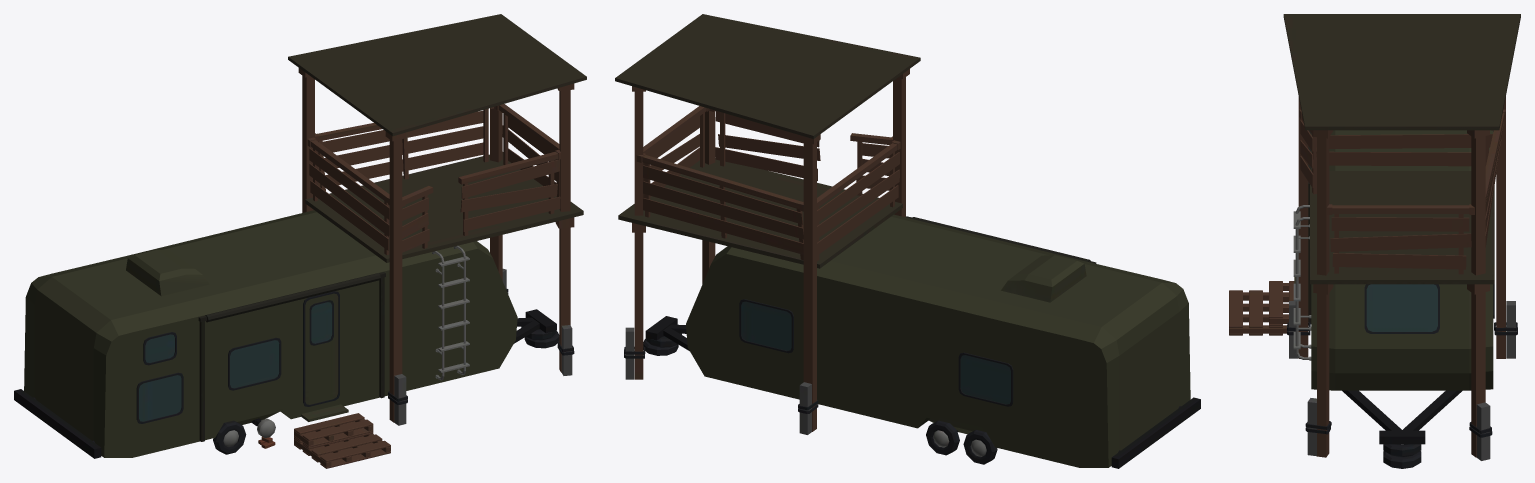
The model's file is old_trailer.gltf.
The picture shows the model from 3 angles, left to right: view 1: azimuth 30°, elevation 25°; view 2: azimuth 150°, elevation 25°; view 3: azimuth 270°, elevation 25°; orthographic projection. The views are drawn at different scales.
Parts seen in each view (by area): view 1: object 144, object 1, object 87, object 47, Door, object 59, object 112, Window3_3, object 15, Window1, object 9, object 16 (+18 smaller); view 2: object 144, object 1, object 87, object 43, object 53, object 112, object 16, object 15, object 9, Window3_4, Window3_5, object 116 (+13 smaller); view 3: object 1, object 144, object 87, object 53, object 59, Window2, object 43, object 32, object 19, object 20, object 33, object 18 (+18 smaller).
Part boxes in pixels (x1,y1,x2,y2): object 144: (24, 210, 517, 457); object 1: (288, 14, 586, 136); object 87: (305, 152, 583, 262); object 47: (389, 139, 402, 422); Door: (303, 291, 339, 406); object 59: (559, 90, 570, 372); object 112: (126, 250, 209, 296); Window3_3: (230, 340, 279, 388); object 15: (318, 126, 483, 169); Window1: (139, 375, 181, 421); object 9: (318, 110, 483, 153); object 16: (318, 142, 483, 186); object 144: (686, 214, 1190, 467); object 1: (615, 14, 920, 138); object 87: (618, 158, 902, 268); object 43: (803, 142, 816, 431); object 53: (634, 91, 643, 379); object 112: (1001, 255, 1086, 302); object 16: (643, 198, 803, 254); object 15: (643, 181, 803, 239); object 9: (643, 165, 802, 224); Window3_4: (741, 301, 791, 350); Window3_5: (960, 355, 1010, 404); object 116: (1111, 397, 1200, 468); object 1: (1283, 14, 1520, 130); object 144: (1311, 130, 1493, 390); object 87: (1310, 171, 1494, 284); object 53: (1471, 136, 1485, 457); object 59: (1317, 137, 1329, 457); Window2: (1366, 284, 1437, 331); object 43: (1496, 96, 1505, 358); object 32: (1329, 134, 1492, 148); object 19: (1330, 233, 1471, 251); object 20: (1331, 217, 1469, 231); object 33: (1329, 151, 1471, 166); object 18: (1332, 253, 1466, 269).
Bounding box in the file's own units: 990 × 557 × 439.
1 material, 1 textured.
